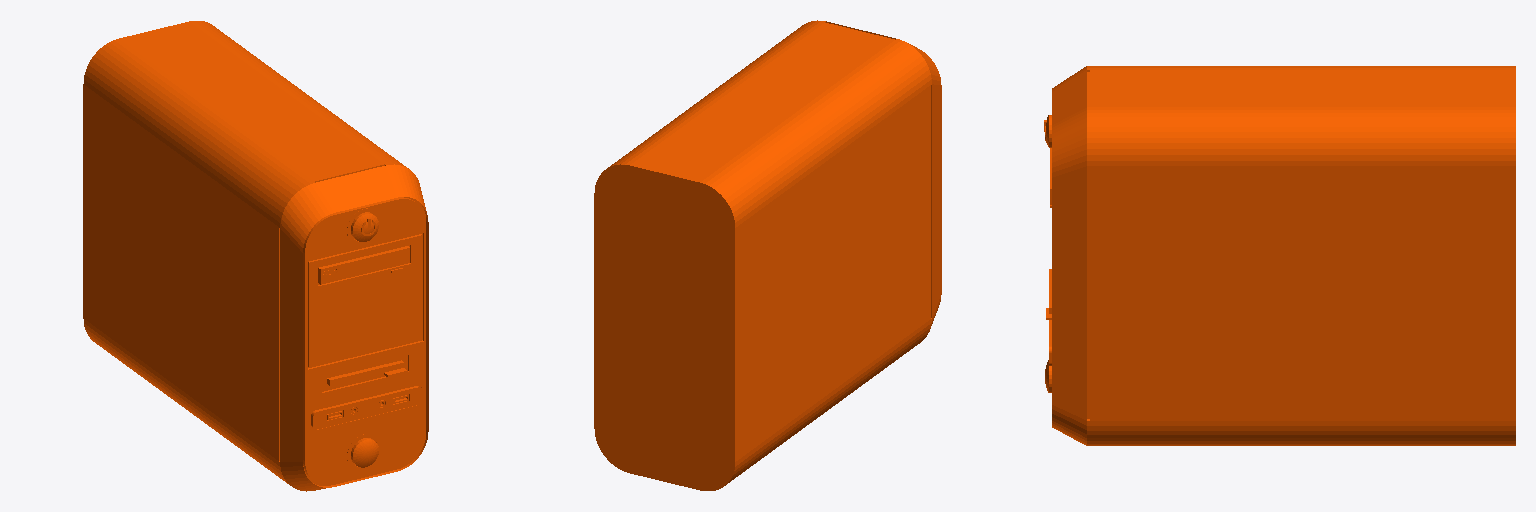
The robot description file, URDF, robot "Desktop_51ddb98b62d242c234b77b4127aa78ab":
<?xml version="1.0" ?>
<robot name="Desktop_51ddb98b62d242c234b77b4127aa78ab">
   <material name="obj_color">
      <color rgba="1.0 0.423529411765 0.0392156862745 1.0"/>
   </material>
   <link name="top">
      <inertial>
         <origin rpy="0.007857962433898396 0.01209432372267866 0.01700201713701245" xyz="0.0002395085561945896 0.01176209037448829 0.0001501872281946009"/>
         <mass value="2.806792945209593"/>
         <inertia ixx="0.01700201365145074" ixy="-5.645289868235586e-06" ixz="-4.615937571472336e-08" iyy="0.007858005017137355" iyz="-1.286976875739262e-05" izz="0.01209428462500142"/>
      </inertial>
      <visual>
         <origin rpy="0 0 0" xyz="0 0 0"/>
         <geometry>
            <mesh filename="top_watertight_tiny.stl" scale="1 1 1"/>
         </geometry>
         <material name="obj_color"/>
      </visual>
      <collision>
         <origin rpy="0 0 0" xyz="0 0 0"/>
         <geometry>
            <mesh filename="top_watertight_tiny.obj" scale="1 1 1"/>
         </geometry>
      </collision>
   </link>
   <link name="bottom">
      <inertial>
         <origin rpy="1.633333333199431e-08 1.633333333199431e-08 1.633333333362855e-08" xyz="0.3464080000000008 0.3464080000000008 0.3464080000000008"/>
         <mass value="0.0009800000000000017"/>
         <inertia ixx="1.633333333253906e-08" ixy="5.447480642029219e-19" ixz="5.447480642029219e-19" iyy="1.633333333253906e-08" iyz="5.447480642029219e-19" izz="1.633333333253906e-08"/>
      </inertial>
      <visual>
         <origin rpy="0 0 0" xyz="0 0 0"/>
         <geometry>
            <mesh filename="bottom_watertight_tiny.stl" scale="1 1 1"/>
         </geometry>
         <material name="obj_color"/>
      </visual>
   </link>
   <link name="world"/>
   <joint name="world_to_base" type="fixed">
      <origin xyz="0 0 0"/>
      <axis xyz="0 0 0"/>
      <parent link="world"/>
      <child link="bottom"/>
   </joint>
   <joint name="rotation" type="revolute">
      <origin xyz="0 0 0"/>
      <axis xyz="0 0 -1"/>
      <parent link="bottom"/>
      <child link="top"/>
      <dynamics damping="1.0" friction="1.0"/>
      <limit effort="0.1" velocity="0.1" lower="0" upper="0.001"/>
   </joint>
</robot>

--- What the picture shows (computed from the rendered views, not written in the file) ---
3 views of the same robot in one strip: view 1: azimuth 30°, elevation 25°; view 2: azimuth 150°, elevation 25°; view 3: azimuth 270°, elevation 25° (orthographic).
Model Desktop_51ddb98b62d242c234b77b4127aa78ab with 3 links and 2 joints (1 revolute, 1 fixed), rooted at world, posed all joints at 0.
Visible links, largest first — view 1: top; view 2: top; view 3: top.
Boxes of the visible links, box(x1,y1,x2,y2) form: top: box(83, 21, 428, 491); top: box(594, 20, 941, 490); top: box(1044, 66, 1515, 445).
Size in the robot's own frame: 0.0814 by 0.2163 by 0.1698 metres.
Meshes: 2 distinct files referenced, 1 mesh visuals loaded (1 binary STL); not drawn: 1 (reference not matched to a file when rendering).
